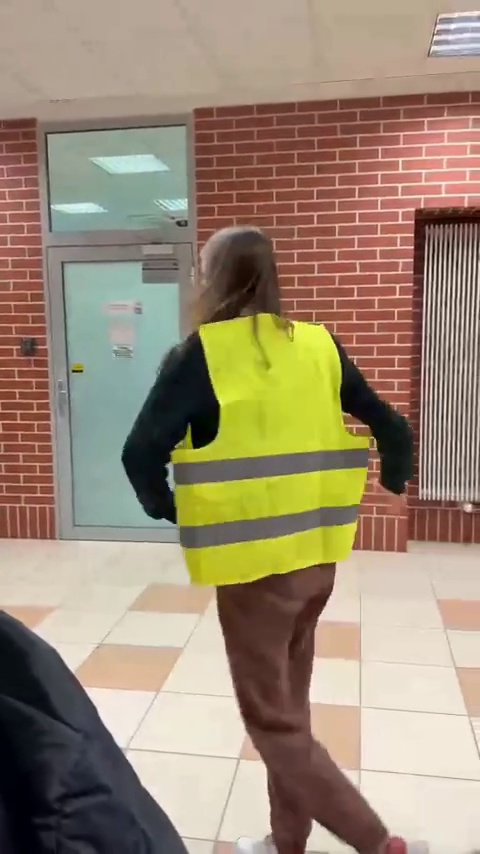vest: (142, 225, 414, 851)
